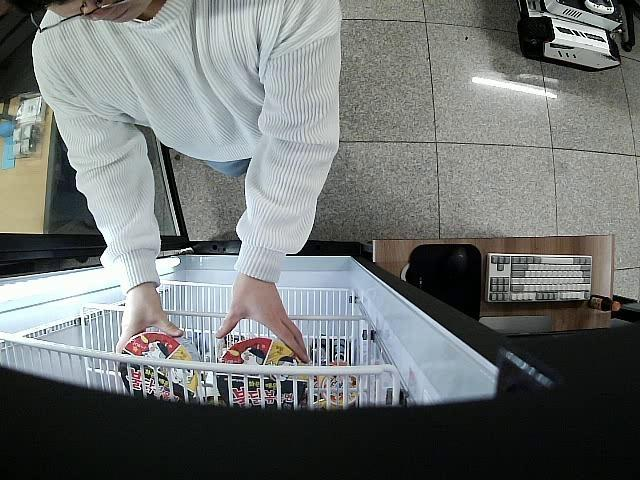07_buldak_L: (214, 337, 308, 409), (118, 333, 204, 405)
